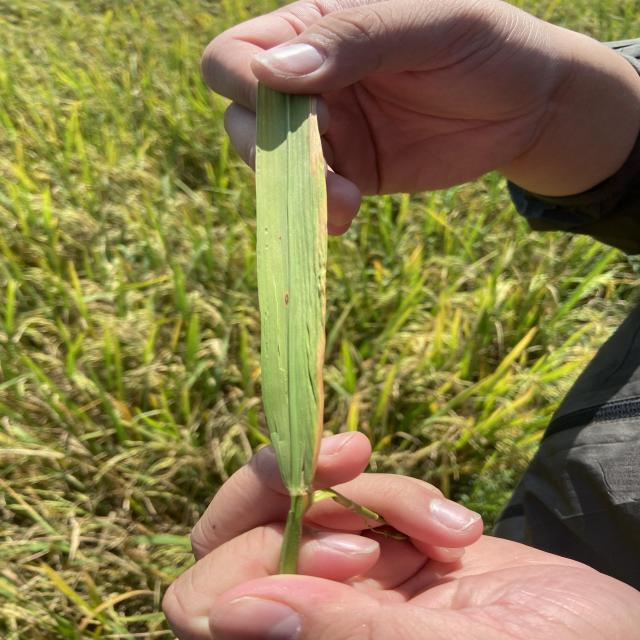Dom nau: (284, 293, 289, 306), (279, 236, 281, 240)
